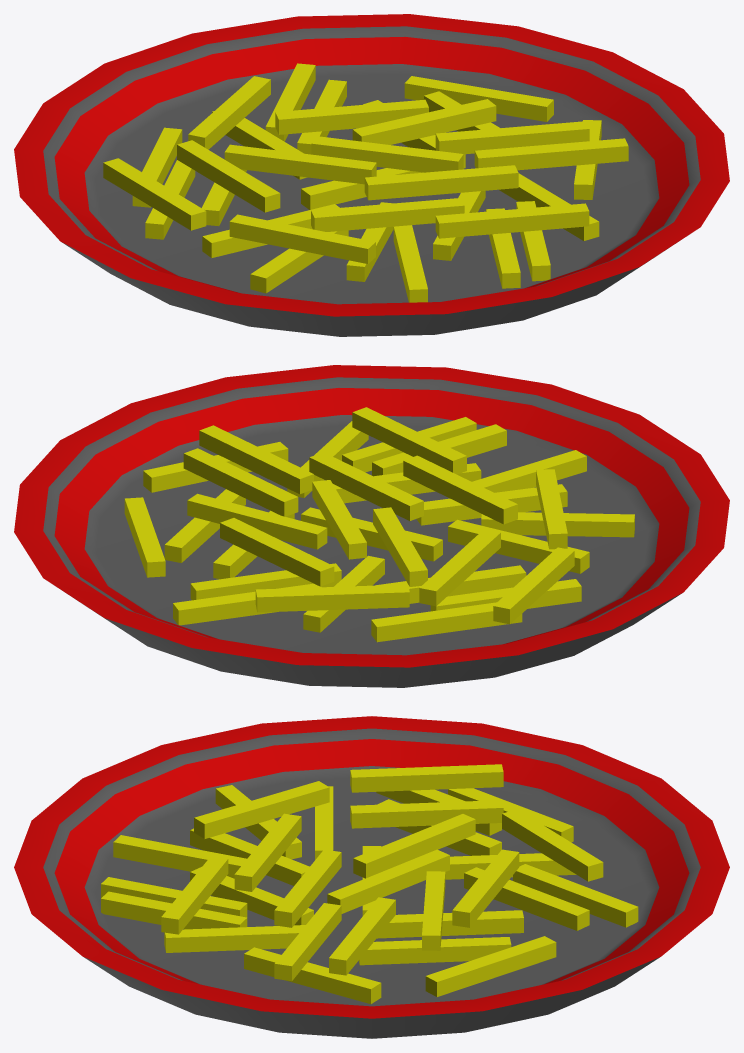
Rendered from patatoplate.fbx.
The picture shows the model from 3 angles, top to bottom: view 1: azimuth 30°, elevation 25°; view 2: azimuth 150°, elevation 25°; view 3: azimuth 270°, elevation 25°; orthographic projection.
Parts seen in each view (by area): view 1: potatoplate; view 2: potatoplate; view 3: potatoplate.
Boxes of the visible parts, x1,y1,x2,y2 form: potatoplate: (14,14,729,336); potatoplate: (14,365,729,687); potatoplate: (14,716,729,1038).
Size of the model in its own units: 77.53 by 5.85 by 77.53.
